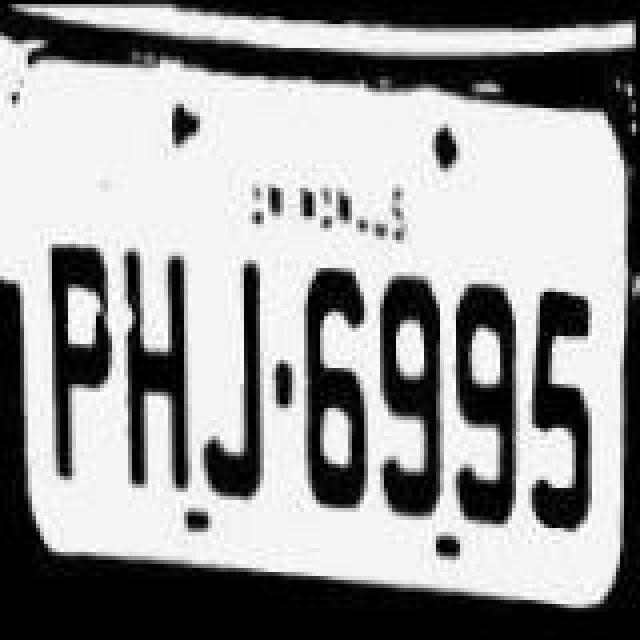5: (518, 274, 598, 530)
6: (296, 258, 380, 510)
9: (370, 260, 450, 520), (448, 268, 524, 524)
H: (114, 242, 198, 502)
J: (194, 250, 270, 502)
P: (42, 226, 118, 486)
